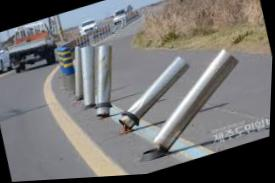Animal: (86, 40, 129, 120), (54, 45, 94, 105), (70, 40, 104, 103)
